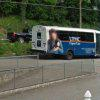Bus: (29, 20, 100, 62)
